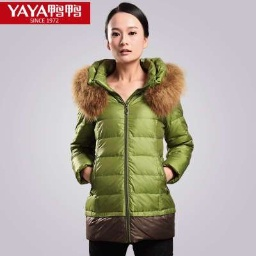face: (98, 1, 157, 66)
